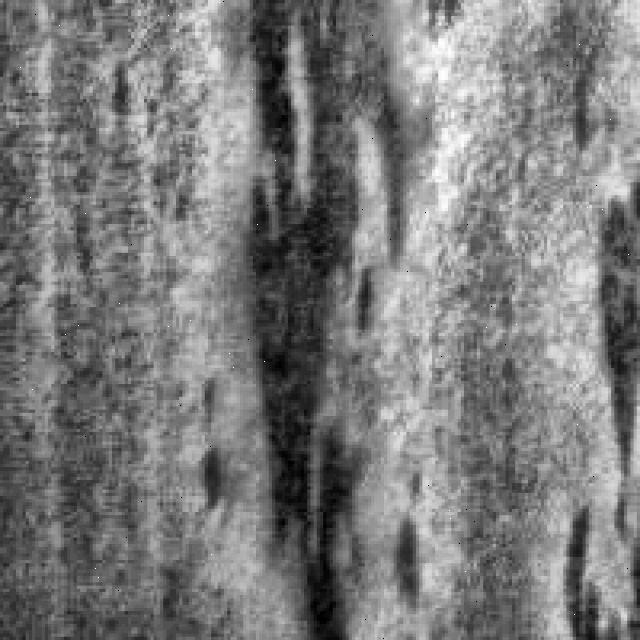Patches: (217, 0, 428, 627), (576, 176, 640, 528), (189, 342, 253, 534), (554, 493, 620, 637), (563, 54, 611, 157)
